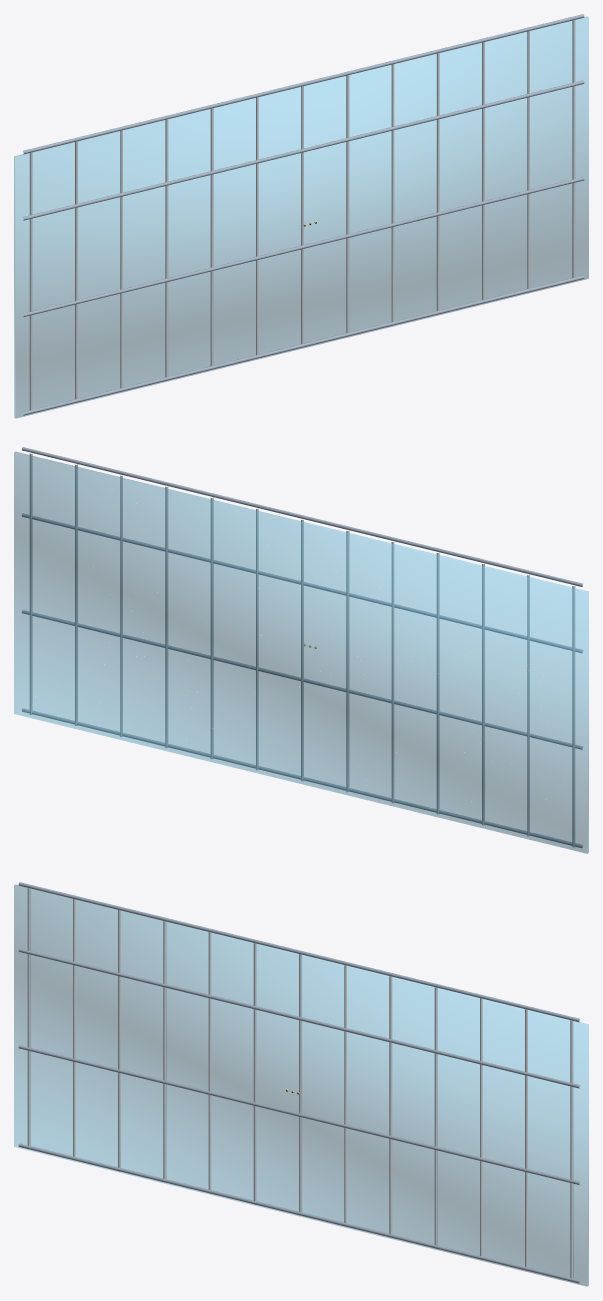
The model's file is 01_L90_EarthPanoramicObservationDome.glb.
The picture shows the model from 3 angles, top to bottom: view 1: azimuth 30°, elevation 25°; view 2: azimuth 150°, elevation 25°; view 3: azimuth 330°, elevation 25°; orthographic projection.
Visible parts, largest first — view 1: L90_EarthPanoramicObservation_Part_0000, L90_EarthPanoramicObservation_Part_0001, L90_EarthPanoramicObservation_Part_0002; view 2: L90_EarthPanoramicObservation_Part_0000, L90_EarthPanoramicObservation_Part_0001, L90_EarthPanoramicObservation_Part_0002; view 3: L90_EarthPanoramicObservation_Part_0000, L90_EarthPanoramicObservation_Part_0001, L90_EarthPanoramicObservation_Part_0002.
Part boxes in pixels (<box>): L90_EarthPanoramicObservation_Part_0000: <box>14,16,588,418</box>; L90_EarthPanoramicObservation_Part_0001: <box>29,20,575,413</box>; L90_EarthPanoramicObservation_Part_0002: <box>22,14,584,415</box>; L90_EarthPanoramicObservation_Part_0000: <box>14,452,588,853</box>; L90_EarthPanoramicObservation_Part_0001: <box>29,453,575,847</box>; L90_EarthPanoramicObservation_Part_0002: <box>21,447,583,847</box>; L90_EarthPanoramicObservation_Part_0000: <box>14,884,588,1286</box>; L90_EarthPanoramicObservation_Part_0001: <box>27,888,573,1281</box>; L90_EarthPanoramicObservation_Part_0002: <box>18,882,580,1283</box>.
Bounding box in the file's own units: 31.7 × 14.09 × 1.06.
